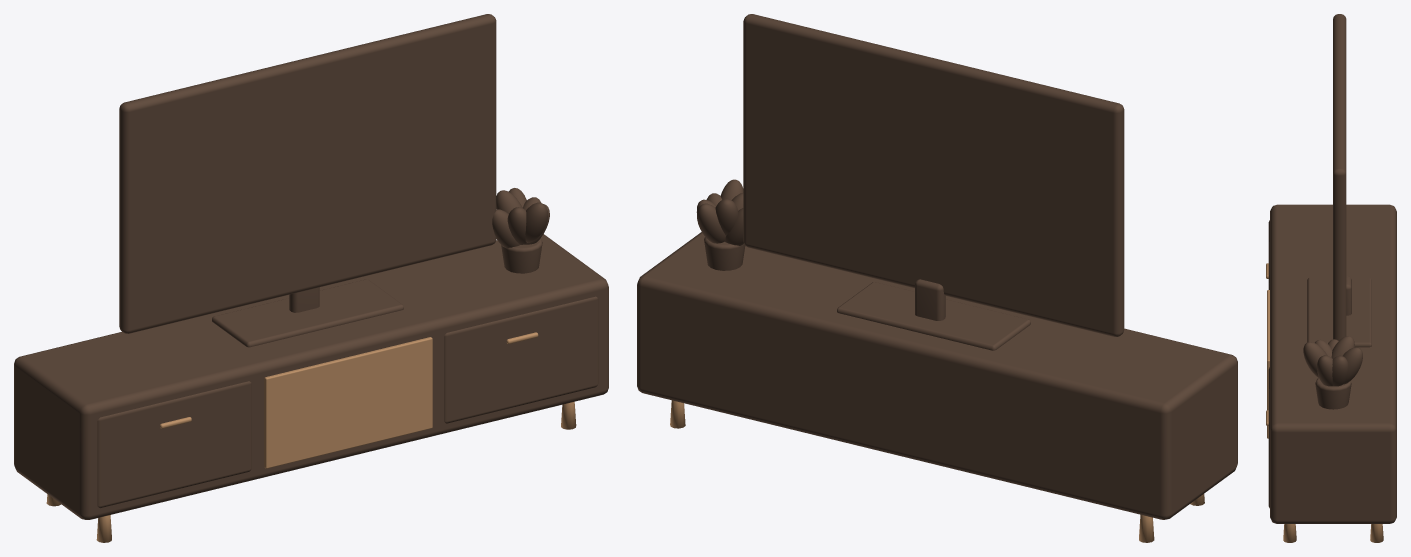
3 views of the same model, side by side, from view 1: azimuth 30°, elevation 25°; view 2: azimuth 150°, elevation 25°; view 3: azimuth 270°, elevation 25° (orthographic). The views are drawn at different scales.
Parts seen in each view (by area): view 1: tv; view 2: tv; view 3: tv.
Boxes of the visible parts, bbox=[...] form: tv: bbox=[14, 14, 608, 542]; tv: bbox=[637, 14, 1237, 542]; tv: bbox=[1266, 14, 1396, 542].
Size of the model in its own units: 1.71 by 1.24 by 0.4214.
